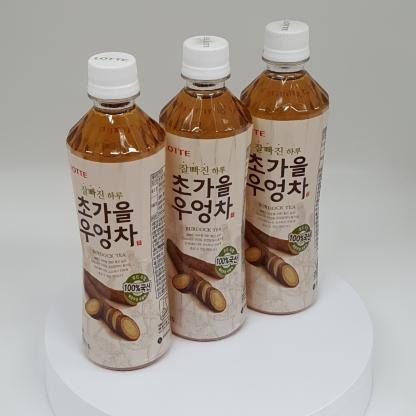----------500ML: (66, 51, 172, 372), (158, 35, 253, 342), (240, 19, 330, 316)
